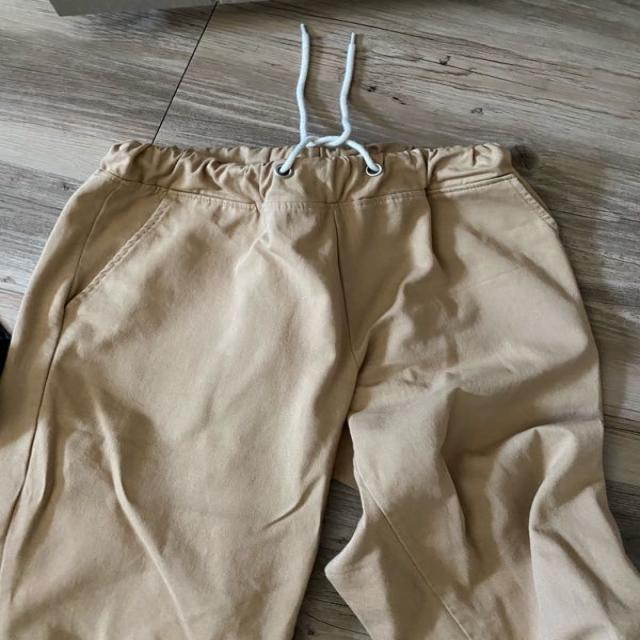cottonpants: (0, 138, 640, 640)
